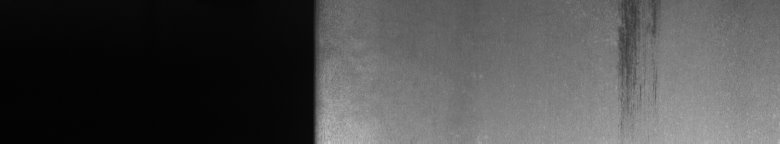ka: (611, 4, 661, 111)
